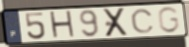5: (23, 11, 47, 41)
9: (78, 9, 101, 39)
C: (129, 8, 156, 35)
G: (156, 5, 181, 34)
H: (48, 9, 77, 41)
X: (102, 7, 130, 38)
